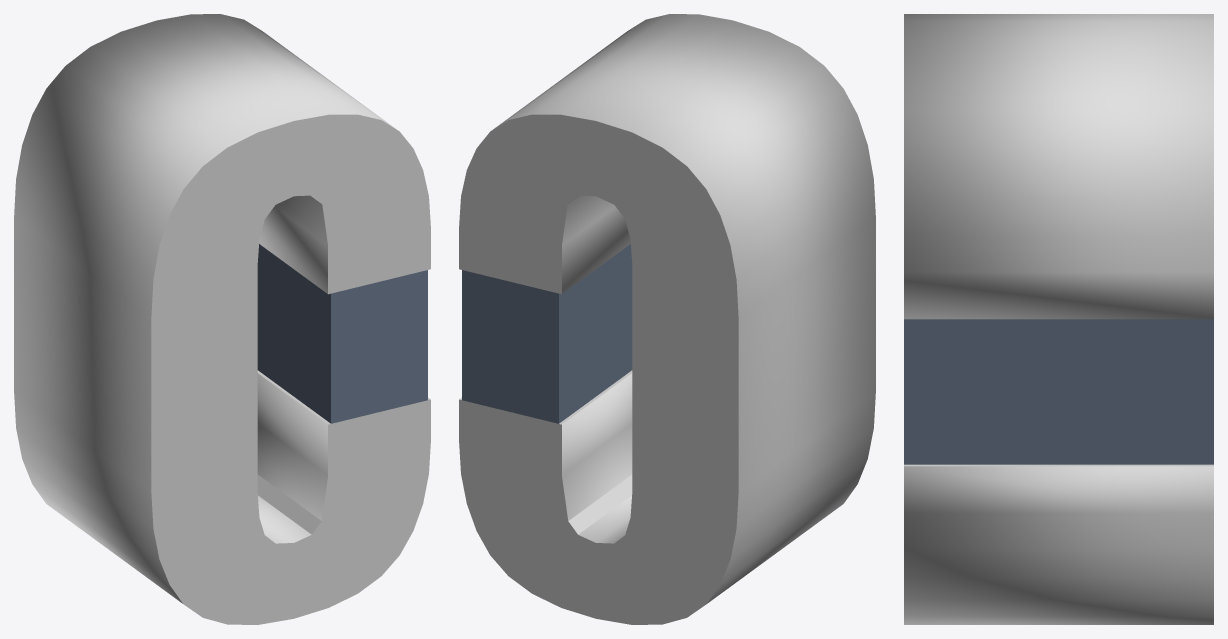
The picture shows the model from 3 angles, left to right: view 1: azimuth 30°, elevation 25°; view 2: azimuth 150°, elevation 25°; view 3: azimuth 270°, elevation 25°; orthographic projection. The views are drawn at different scales.
Parts seen in each view (by area): view 1: geometry, group_3, group_4, group_8, group_10, group_12; view 2: geometry, group_5, group_6, group_14, group_12, group_10; view 3: geometry, group_11, group_13, group_7, group_9.
Part boxes in pixels (box(x1,y1,x2,y2)): geometry: box(14, 14, 430, 624); group_3: box(331, 282, 379, 423); group_4: box(379, 270, 427, 411); group_8: box(296, 271, 330, 423); group_10: box(262, 246, 296, 398); group_12: box(257, 244, 262, 372); geometry: box(459, 14, 875, 624); group_5: box(462, 270, 510, 411); group_6: box(510, 282, 558, 423); group_14: box(559, 271, 593, 423); group_12: box(593, 246, 627, 398); group_10: box(627, 244, 632, 372); geometry: box(904, 14, 1213, 624); group_11: box(1059, 319, 1136, 464); group_13: box(1136, 319, 1213, 464); group_7: box(904, 319, 981, 464); group_9: box(981, 319, 1058, 464).
Bounding box in the file's own units: 9.4 × 16 × 8.
